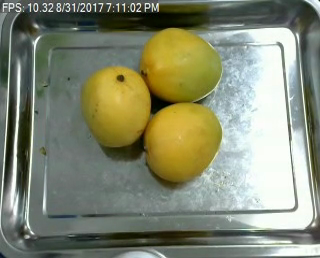Mango: (131, 25, 227, 105), (138, 97, 231, 178), (77, 67, 150, 149)
